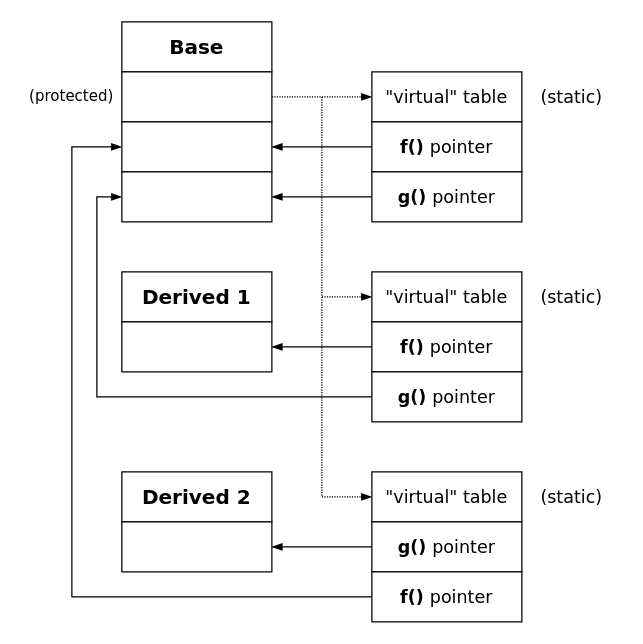
The diagram is 643 pixels wide and 644 high, and some of its shapes have lost their labels. Here are the shapes that lost their labels. From the top down, the centre of each, then its label:
(196,96): "virtual" pointer
(196,146): virtual f()
(196,196): virtual g()
(196,346): f() override
(196,546): g() override
